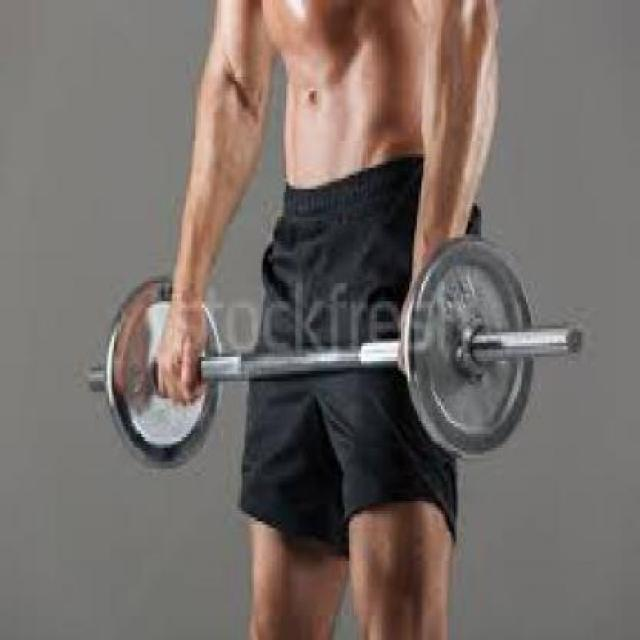barbell: (396, 230, 544, 467)
